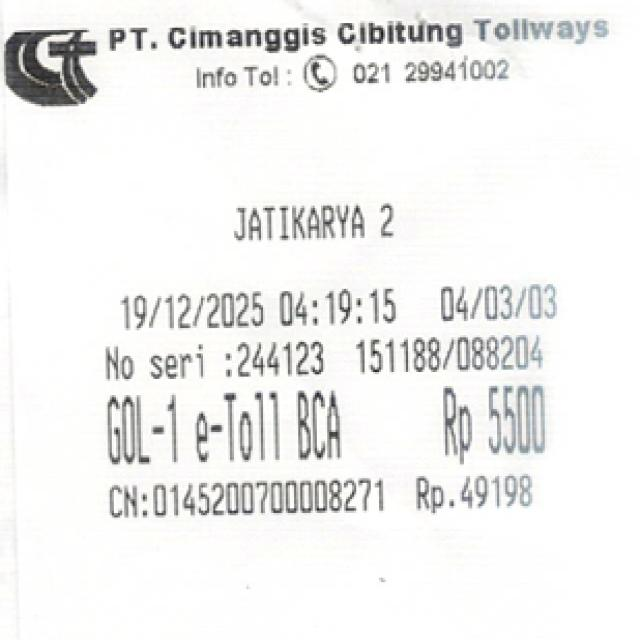date: (108, 286, 407, 333)
store: (102, 20, 608, 48)
total: (437, 382, 551, 452)
